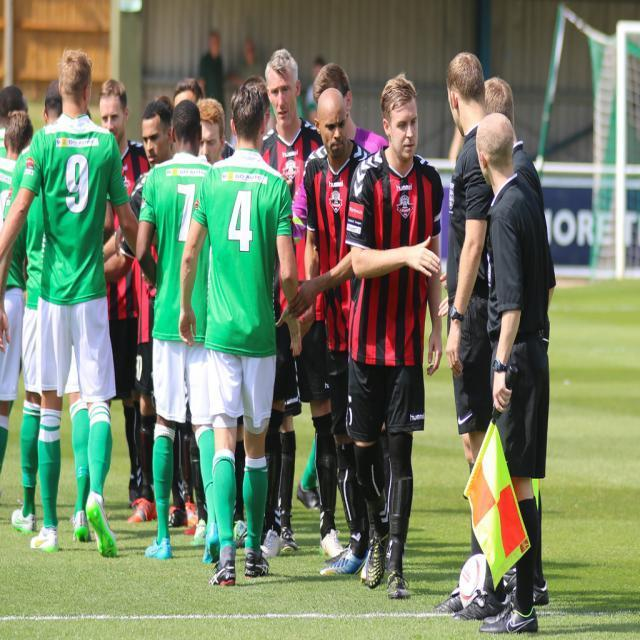football: (440, 542, 514, 611)
